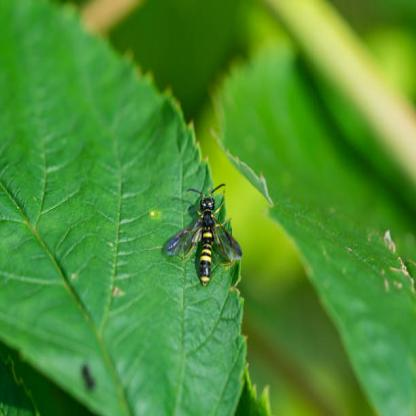sawfly: (167, 158, 245, 294)
